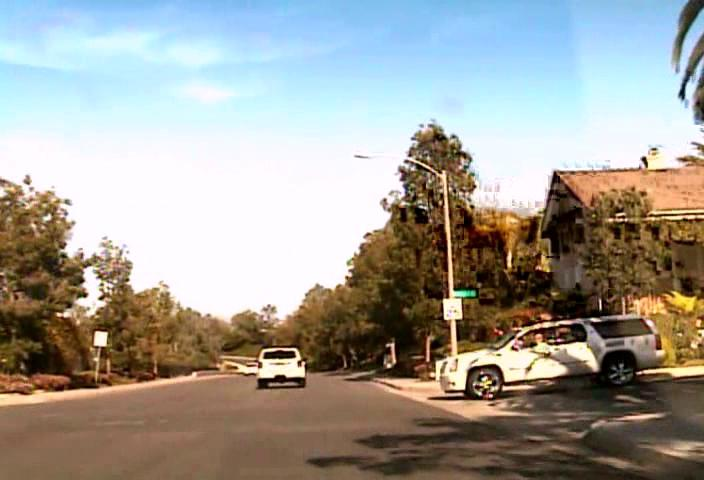speedLimit25: (442, 297, 463, 320)
